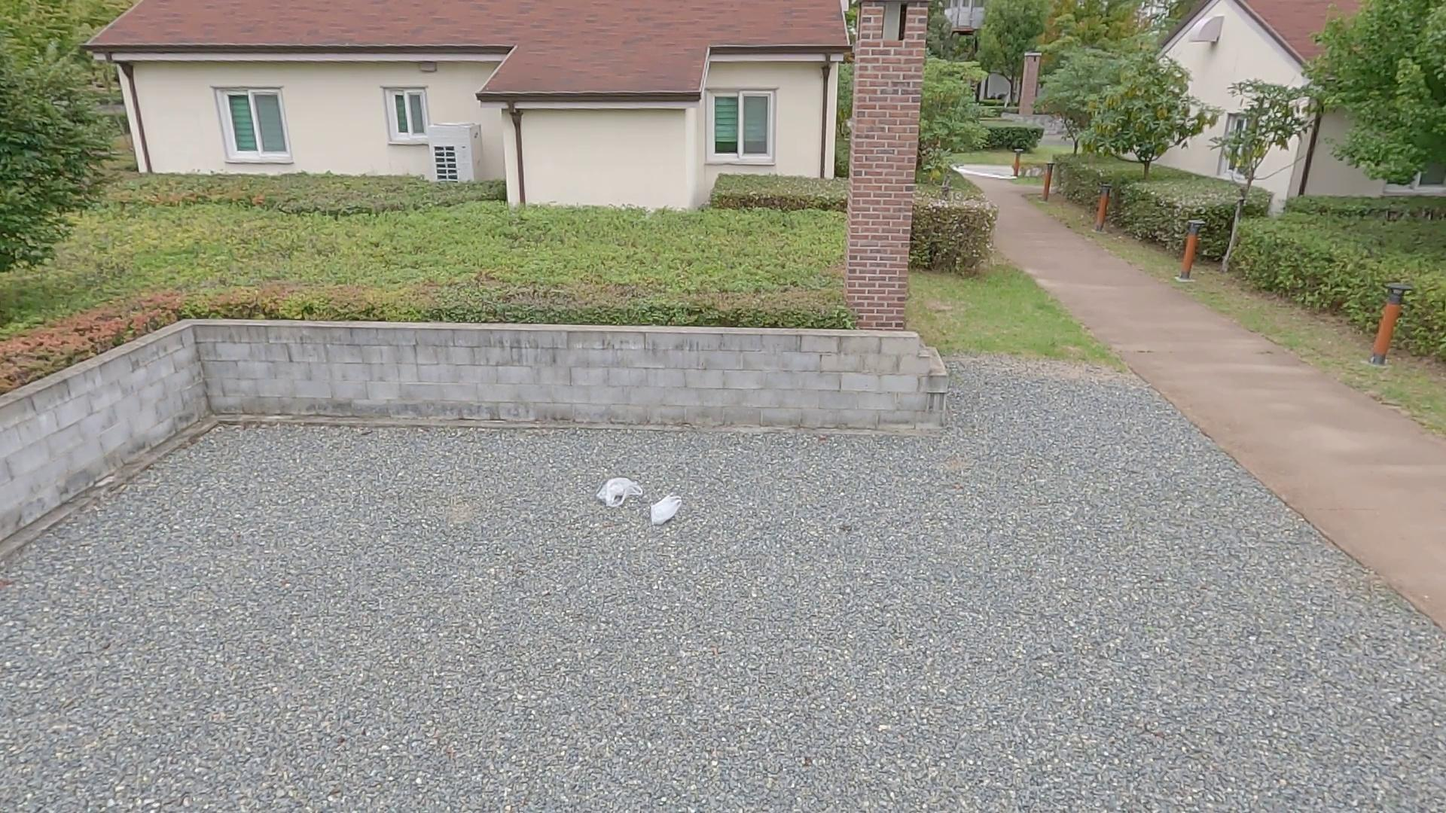trash: (598, 476, 644, 510), (651, 491, 685, 528)
